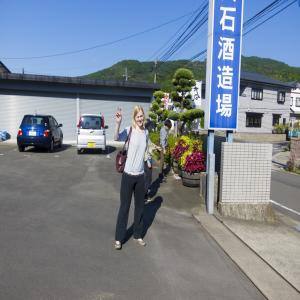Vehicle-registration-plate: (29, 133, 37, 138), (88, 143, 96, 148)
